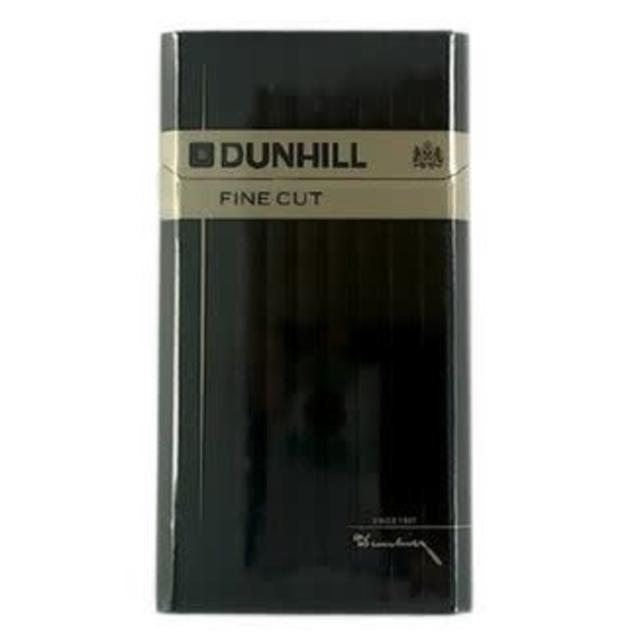dunhill: (160, 34, 476, 616)
